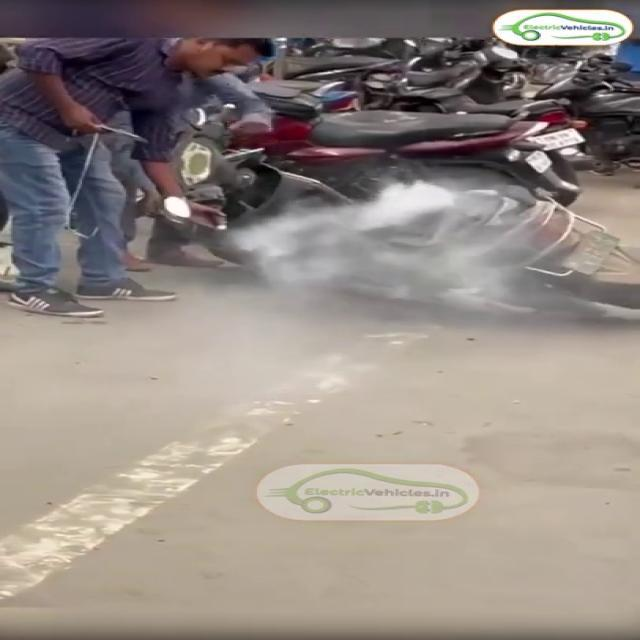Smoke: (3, 165, 639, 636)
